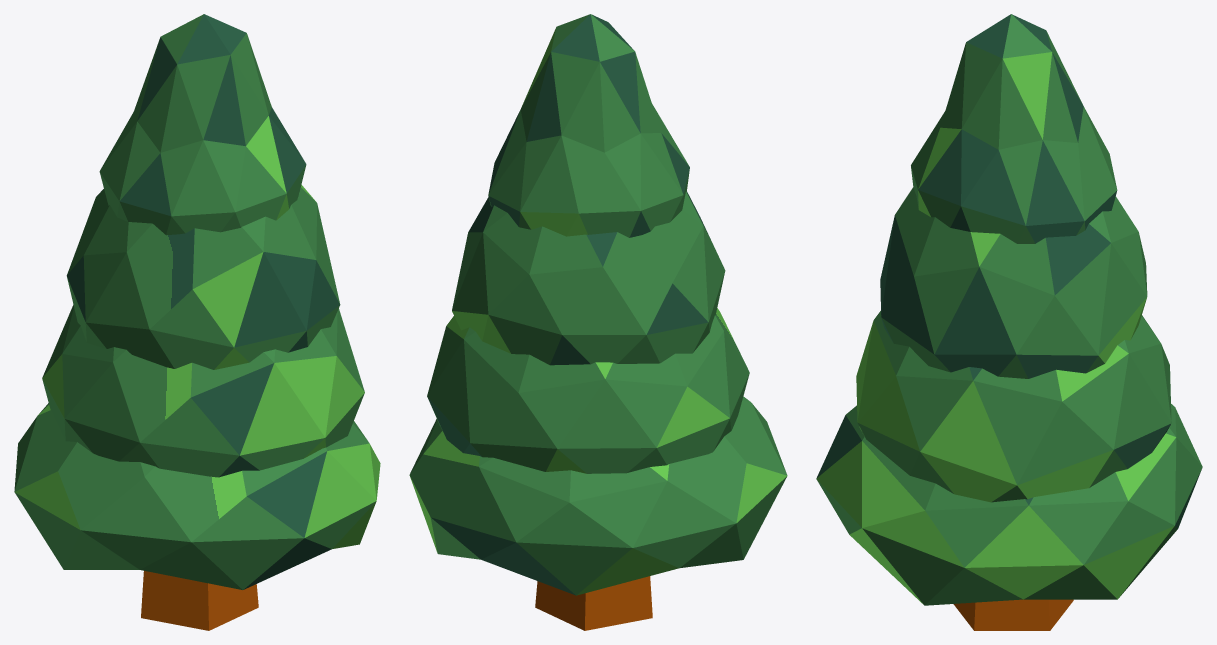
The model's file is Tree_06_1.fbx.
The picture shows the model from 3 angles, left to right: view 1: azimuth 30°, elevation 25°; view 2: azimuth 150°, elevation 25°; view 3: azimuth 270°, elevation 25°; orthographic projection.
Visible parts, largest first — view 1: Tree_06 top, Tree_06 trunk; view 2: Tree_06 top, Tree_06 trunk; view 3: Tree_06 top, Tree_06 trunk.
Part boxes in pixels (<box>): Tree_06 top: <box>14,14,380,589</box>; Tree_06 trunk: <box>141,571,258,630</box>; Tree_06 top: <box>409,14,787,595</box>; Tree_06 trunk: <box>535,576,652,630</box>; Tree_06 top: <box>816,14,1202,605</box>; Tree_06 trunk: <box>953,599,1073,630</box>.
Bounding box in the file's own units: 349 × 611 × 358.
